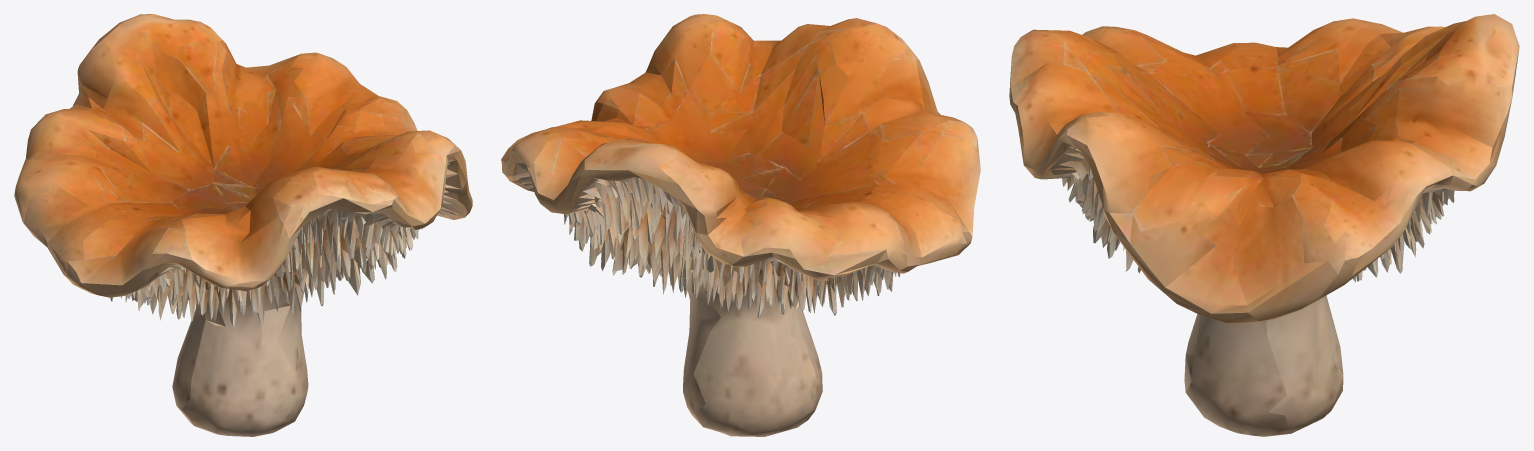
The model's file is sigirdili.glb.
3 views of the same model, side by side, from view 1: azimuth 30°, elevation 25°; view 2: azimuth 150°, elevation 25°; view 3: azimuth 270°, elevation 25° (orthographic). The views are drawn at different scales.
Visible parts, largest first — view 1: output_unwrapped; view 2: output_unwrapped; view 3: output_unwrapped.
Boxes of the visible parts, x1,y1,x2,y2 form: output_unwrapped: [14, 14, 472, 436]; output_unwrapped: [501, 14, 980, 436]; output_unwrapped: [1009, 14, 1519, 436].
Size of the model in its own units: 1.9 by 1.55 by 1.82.
1 material, 1 textured.
